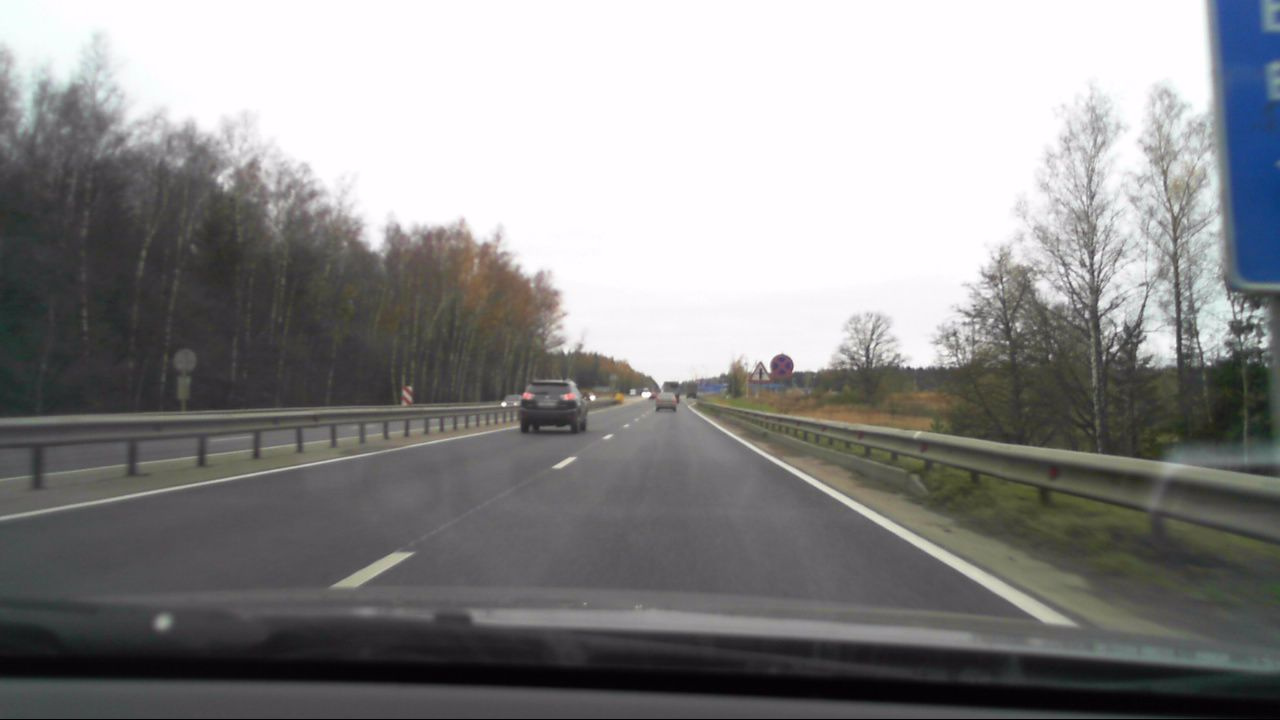No Parking: (770, 353, 794, 379)
